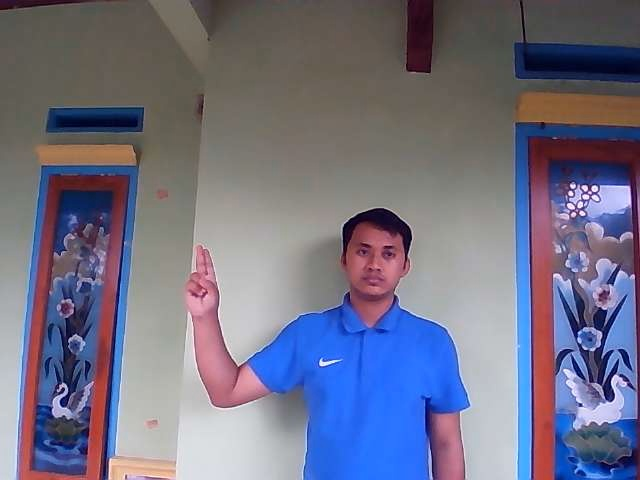U: (183, 244, 220, 318)
